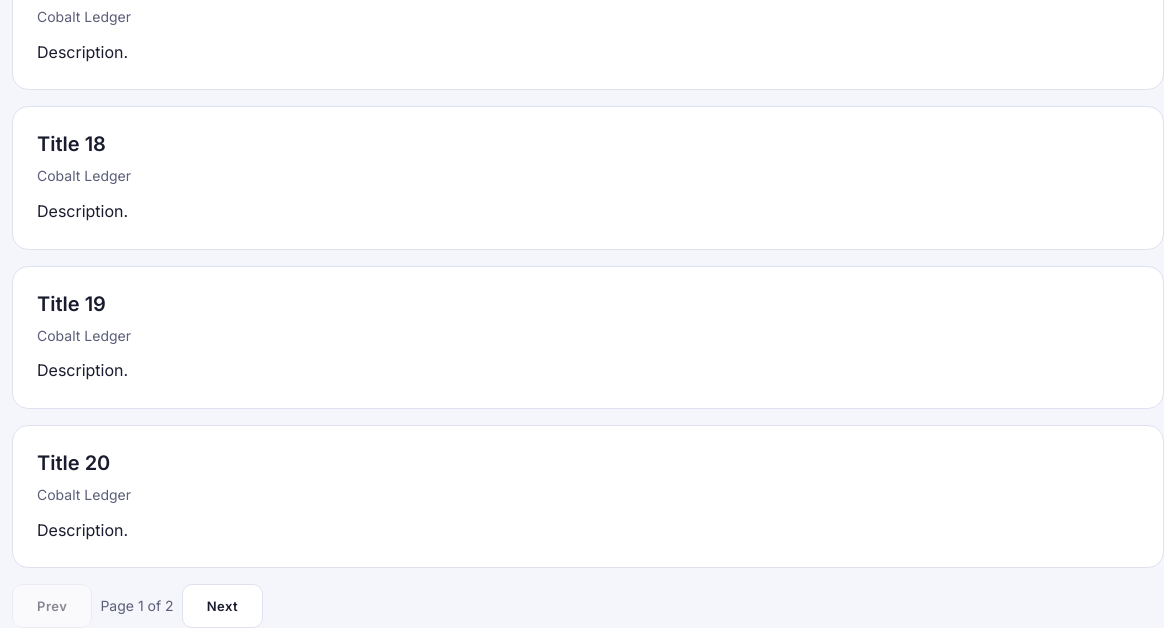
Test case: HomePage › clicking Next re-runs the query with page: 2 and renders the new page
This screenshot has width=1164, height=628.
(page scrolled)
expect the text "Page 1 of 2" is shown: met, box [100,595,174,617]
expect the button "Prev" is disabled: met, box [12,584,92,627]
Click the button "Next" at [222, 606], box [182,584,263,627]
(page scrolled)
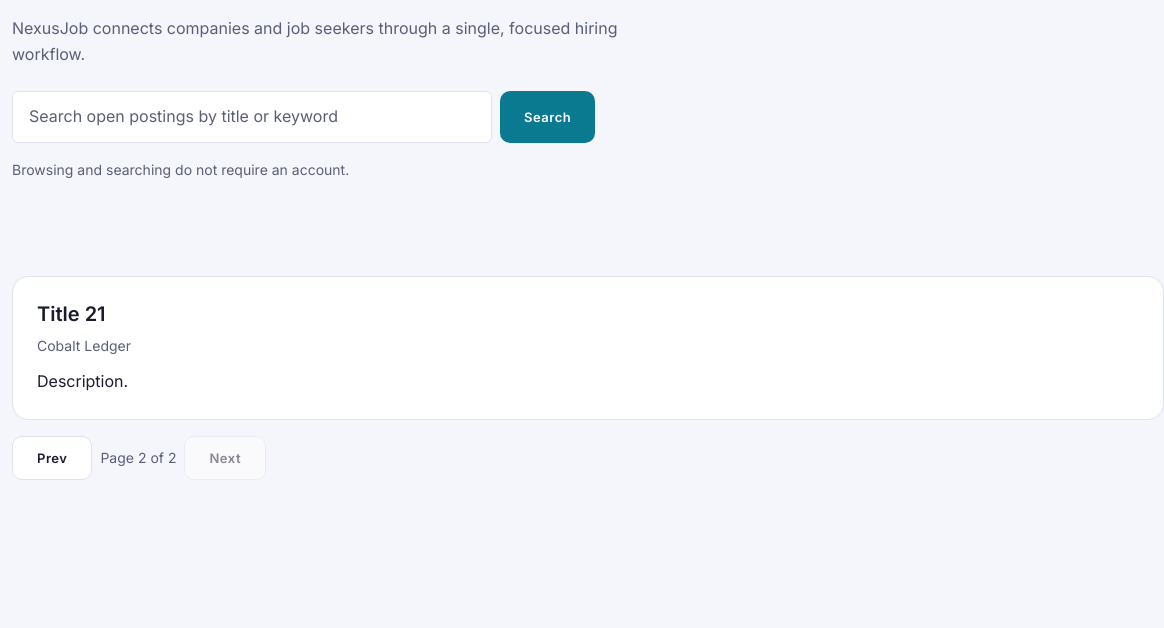
expect the text "Page 2 of 2" is shown: met, box [100,447,176,469]
expect the heading "Title 21" is shown: met, box [37,302,106,326]
expect the button "Next" is disabled: met, box [184,436,266,480]
